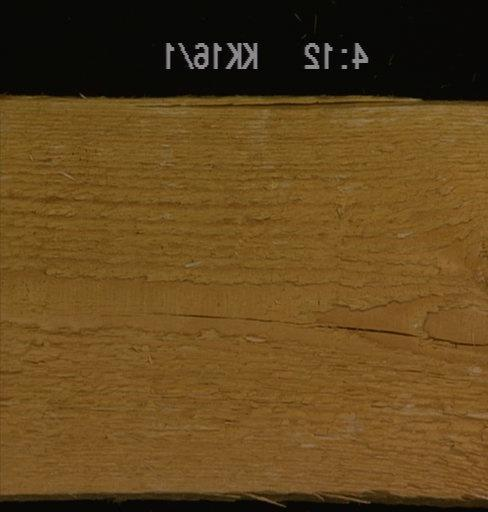split: (145, 310, 486, 347), (135, 94, 486, 109)
